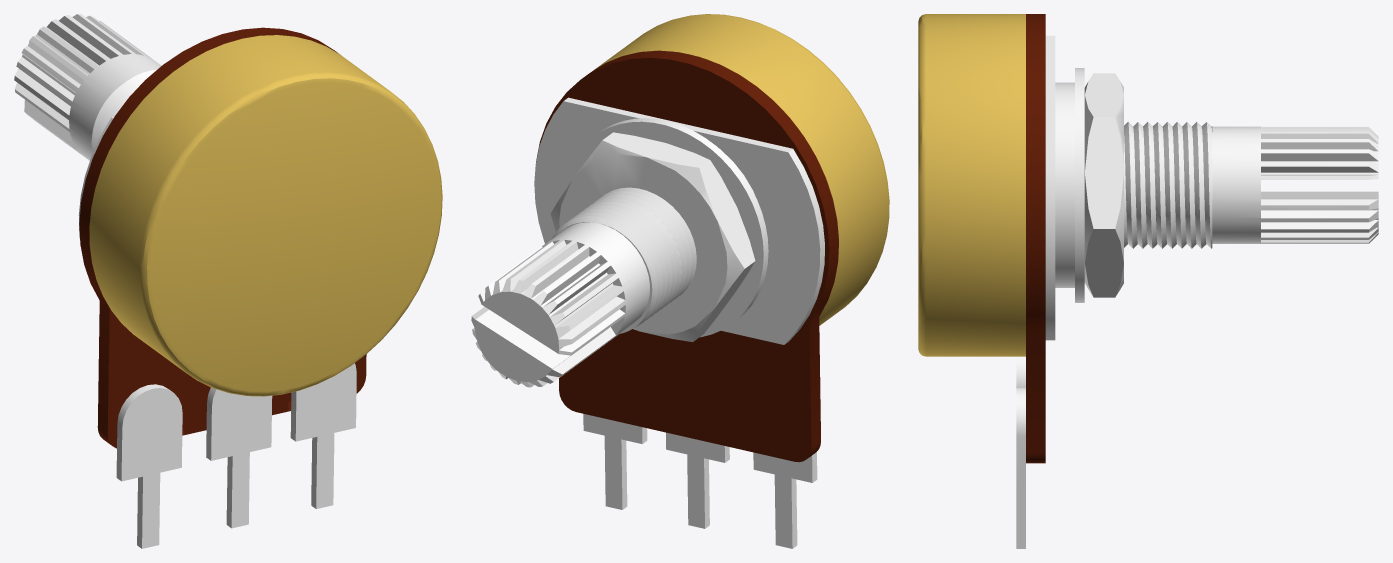
File: potentiometer.glb
3 renders of one model, left to right at view 1: azimuth 30°, elevation 25°; view 2: azimuth 150°, elevation 25°; view 3: azimuth 270°, elevation 25°, orthographic. The views are drawn at different scales.
Parts seen in each view (by area): view 1: latao_002-material, Metal_010-material, Metal_Fosco_002-material, Material_014-material; view 2: Metal_Fosco_002-material, Material_014-material, latao_002-material, Metal_010-material; view 3: Metal_Fosco_002-material, latao_002-material, Material_014-material, Metal_010-material.
Boxes of the visible parts, x1,y1,x2,y2 form: latao_002-material: [89, 35, 442, 396]; Metal_010-material: [116, 363, 356, 548]; Metal_Fosco_002-material: [14, 14, 161, 240]; Material_014-material: [79, 27, 366, 448]; Metal_Fosco_002-material: [471, 97, 824, 387]; Material_014-material: [536, 50, 838, 462]; latao_002-material: [593, 14, 889, 325]; Metal_010-material: [583, 414, 817, 548]; Metal_Fosco_002-material: [1045, 35, 1378, 340]; latao_002-material: [918, 14, 1025, 356]; Material_014-material: [1026, 14, 1045, 463]; Metal_010-material: [1016, 356, 1025, 548].
Size of the model in its own units: 0.0175 by 0.0268 by 0.0235.
